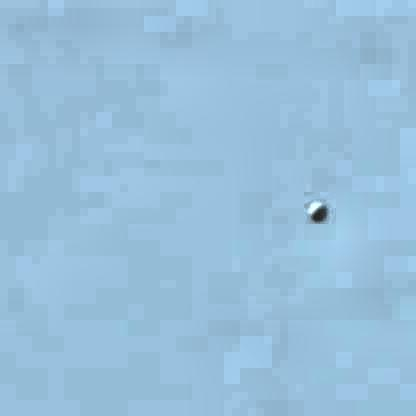golfball: (304, 199, 323, 218)
